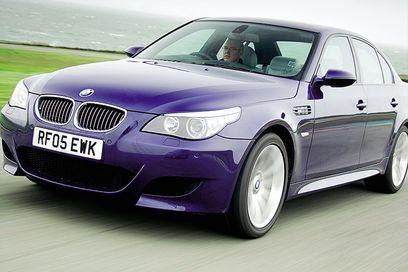Car: (0, 2, 407, 246)
